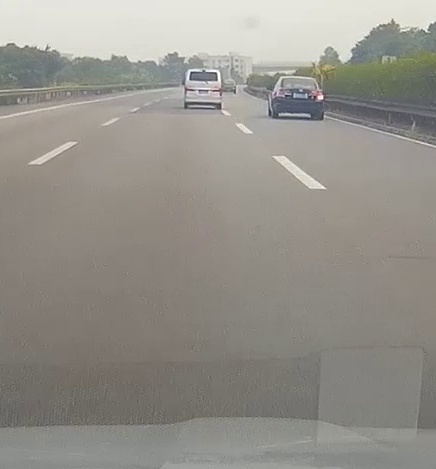L_light: (277, 89, 292, 98), (185, 88, 196, 94)
R_light: (309, 91, 323, 99), (212, 89, 222, 96)
T_light: (295, 77, 302, 79), (201, 71, 207, 73)
day-no: (183, 69, 223, 109)
day-right: (272, 76, 325, 120)
